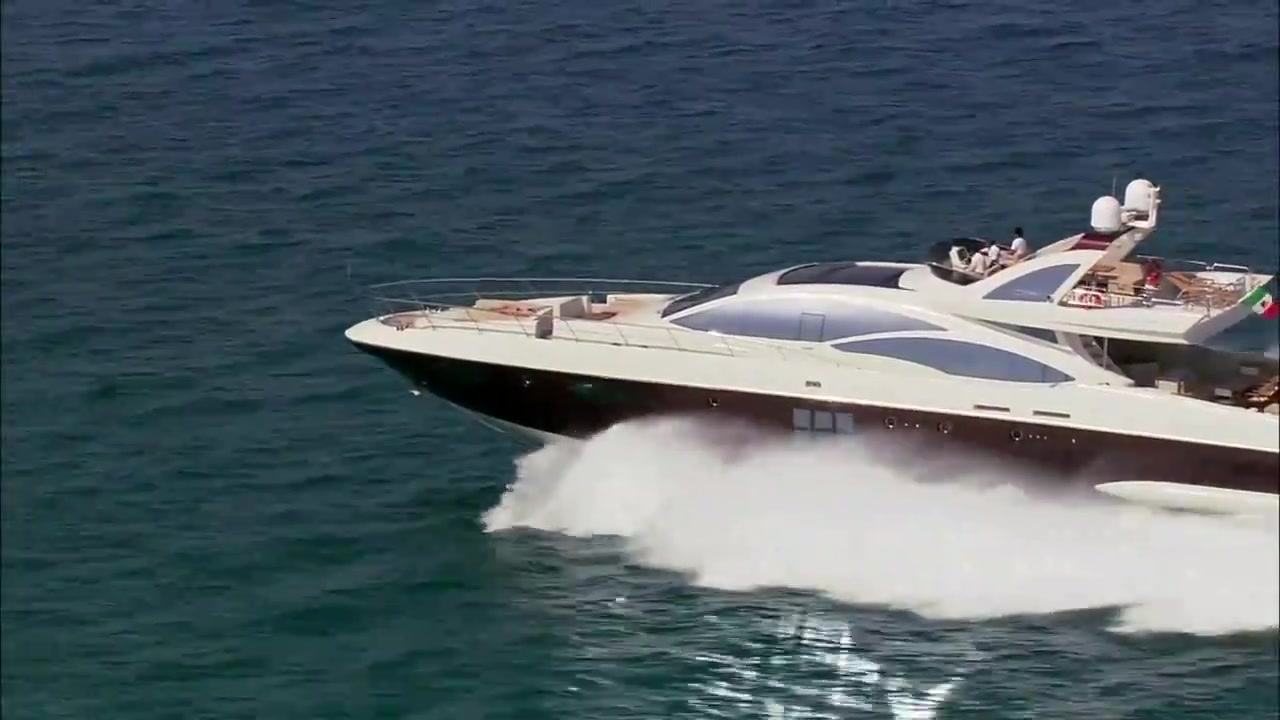boat: (332, 175, 1280, 524)
